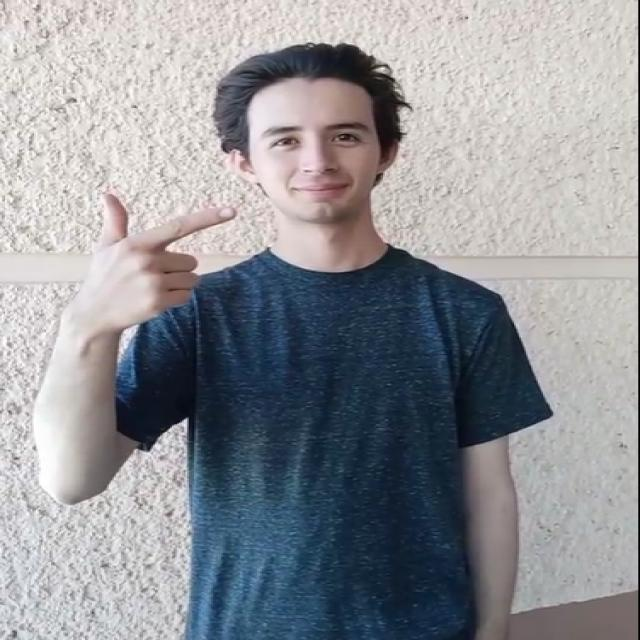G: (51, 182, 251, 335)
